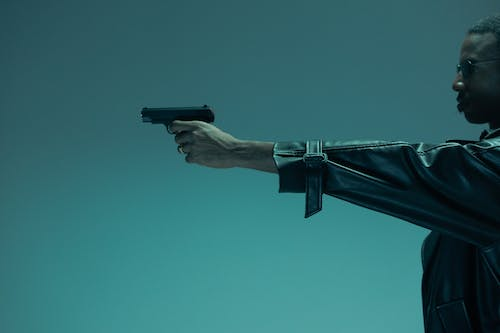gun: (136, 105, 217, 135)
